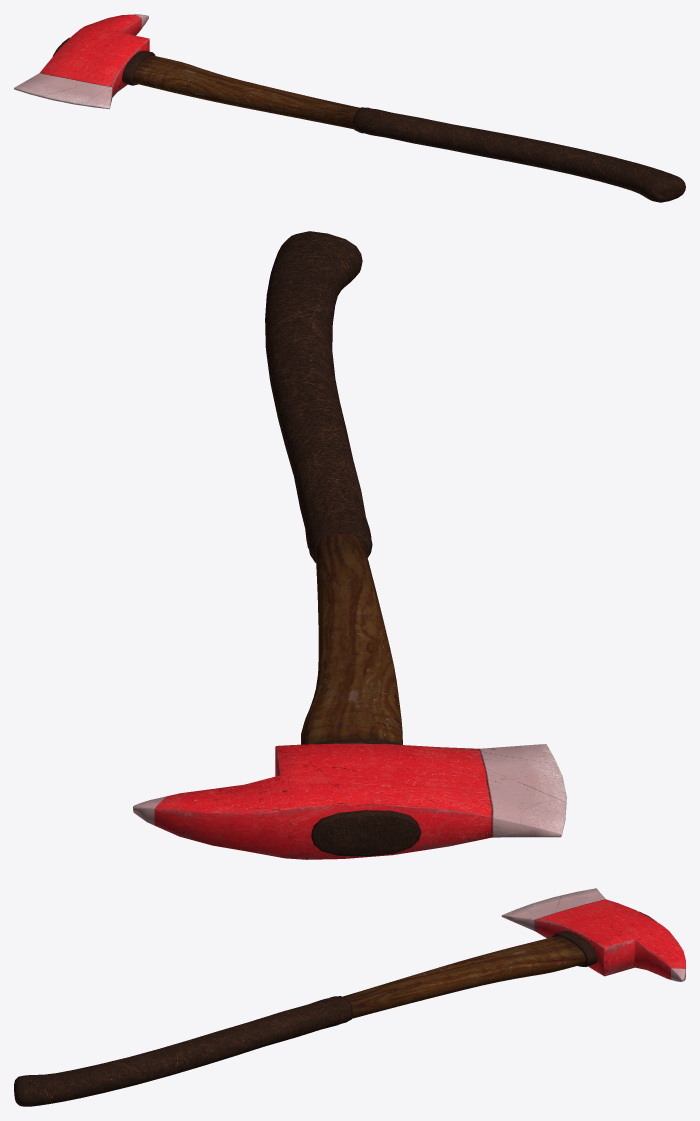
The model's file is fire_axe (2).glb.
3 views of the same model, one above another, from view 1: azimuth 30°, elevation 25°; view 2: azimuth 150°, elevation 25°; view 3: azimuth 270°, elevation 25° (orthographic). The views are drawn at different scales.
Parts seen in each view (by area): view 1: mid_0; view 2: mid_0; view 3: mid_0.
Part boxes in pixels (left/top/right/bottom): mid_0: left=14, top=14, right=685, bottom=202; mid_0: left=133, top=231, right=566, bottom=859; mid_0: left=14, top=888, right=685, bottom=1106.
Size of the model in its own units: 0.8255 by 0.0549 by 1.11.
1 material, 1 textured.
